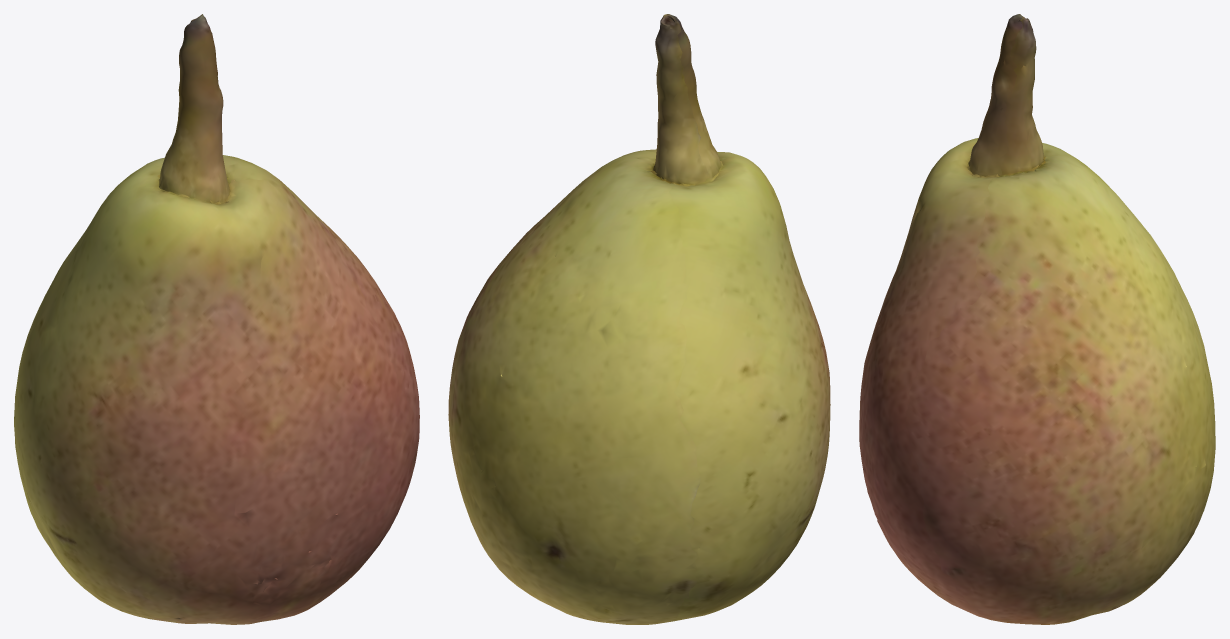
The model's file is pear.glb.
3 views of the same model, side by side, from view 1: azimuth 30°, elevation 25°; view 2: azimuth 150°, elevation 25°; view 3: azimuth 270°, elevation 25° (orthographic). The views are drawn at different scales.
Parts seen in each view (by area): view 1: pear; view 2: pear; view 3: pear.
Part boxes in pixels (x1=…): pear: x1=14, y1=14, x2=419, y2=624; pear: x1=448, y1=14, x2=830, y2=624; pear: x1=859, y1=14, x2=1215, y2=624.
Bounding box in the file's own units: 0.0551 × 0.09 × 0.0509.
1 material, 1 textured.
